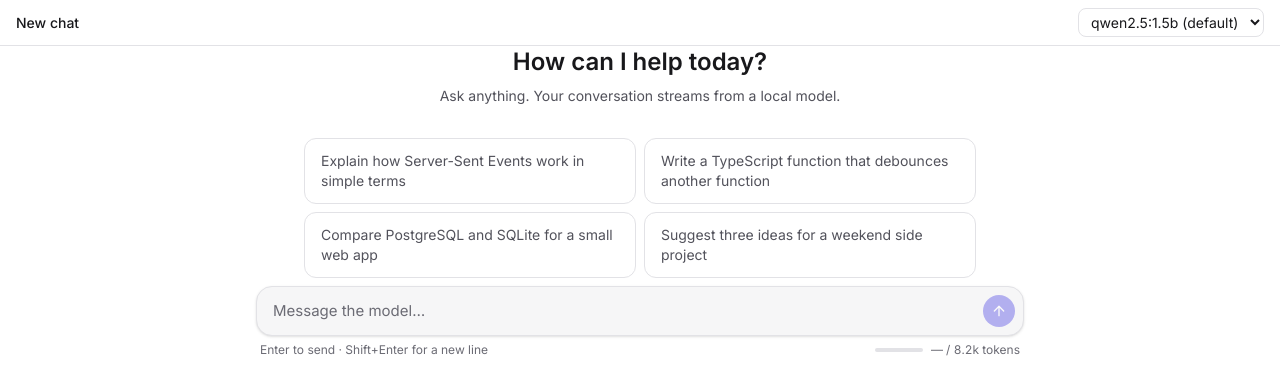
Test: ChatPage › fills the composer from an example prompt without sending
Click the button "Explain how Server-Sent Events work in simple terms": (470, 171) x1=304 y1=138 x2=636 y2=204
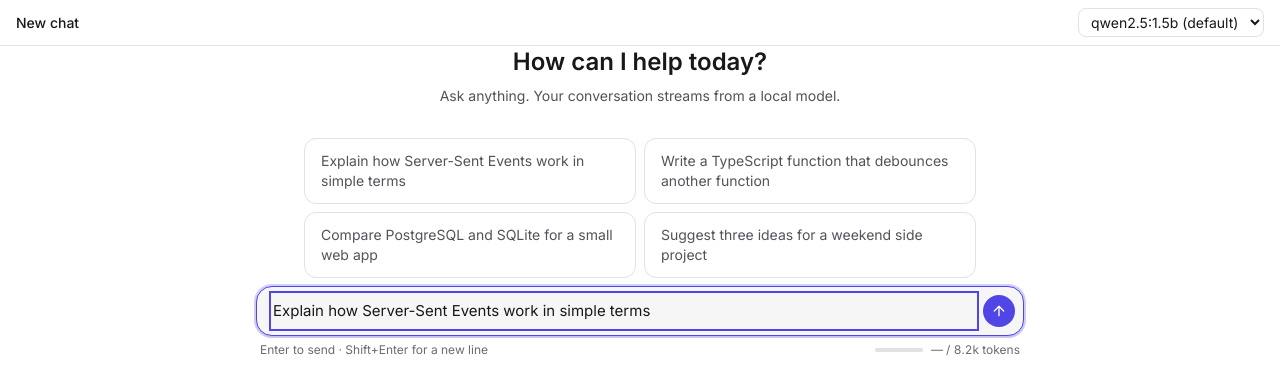
Expected: the text box named "Message" holds "Explain how Server-Sent Events work in simple terms", x1=273 y1=295 x2=975 y2=327
